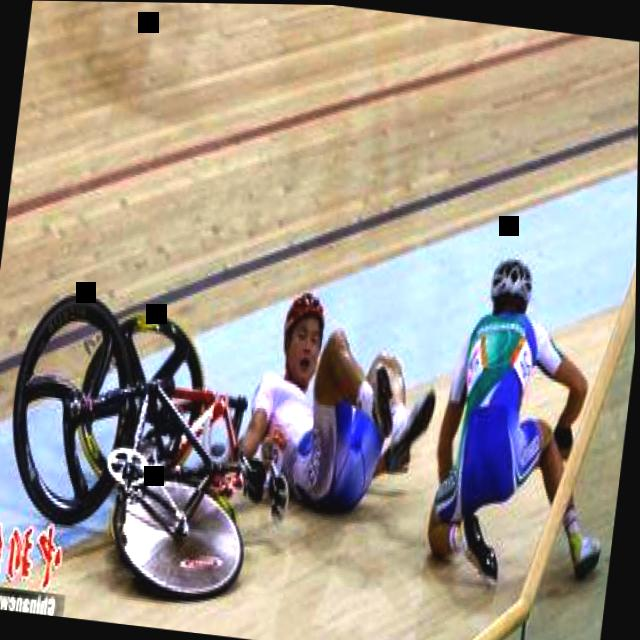Fall-Detected: (219, 262, 452, 527)
